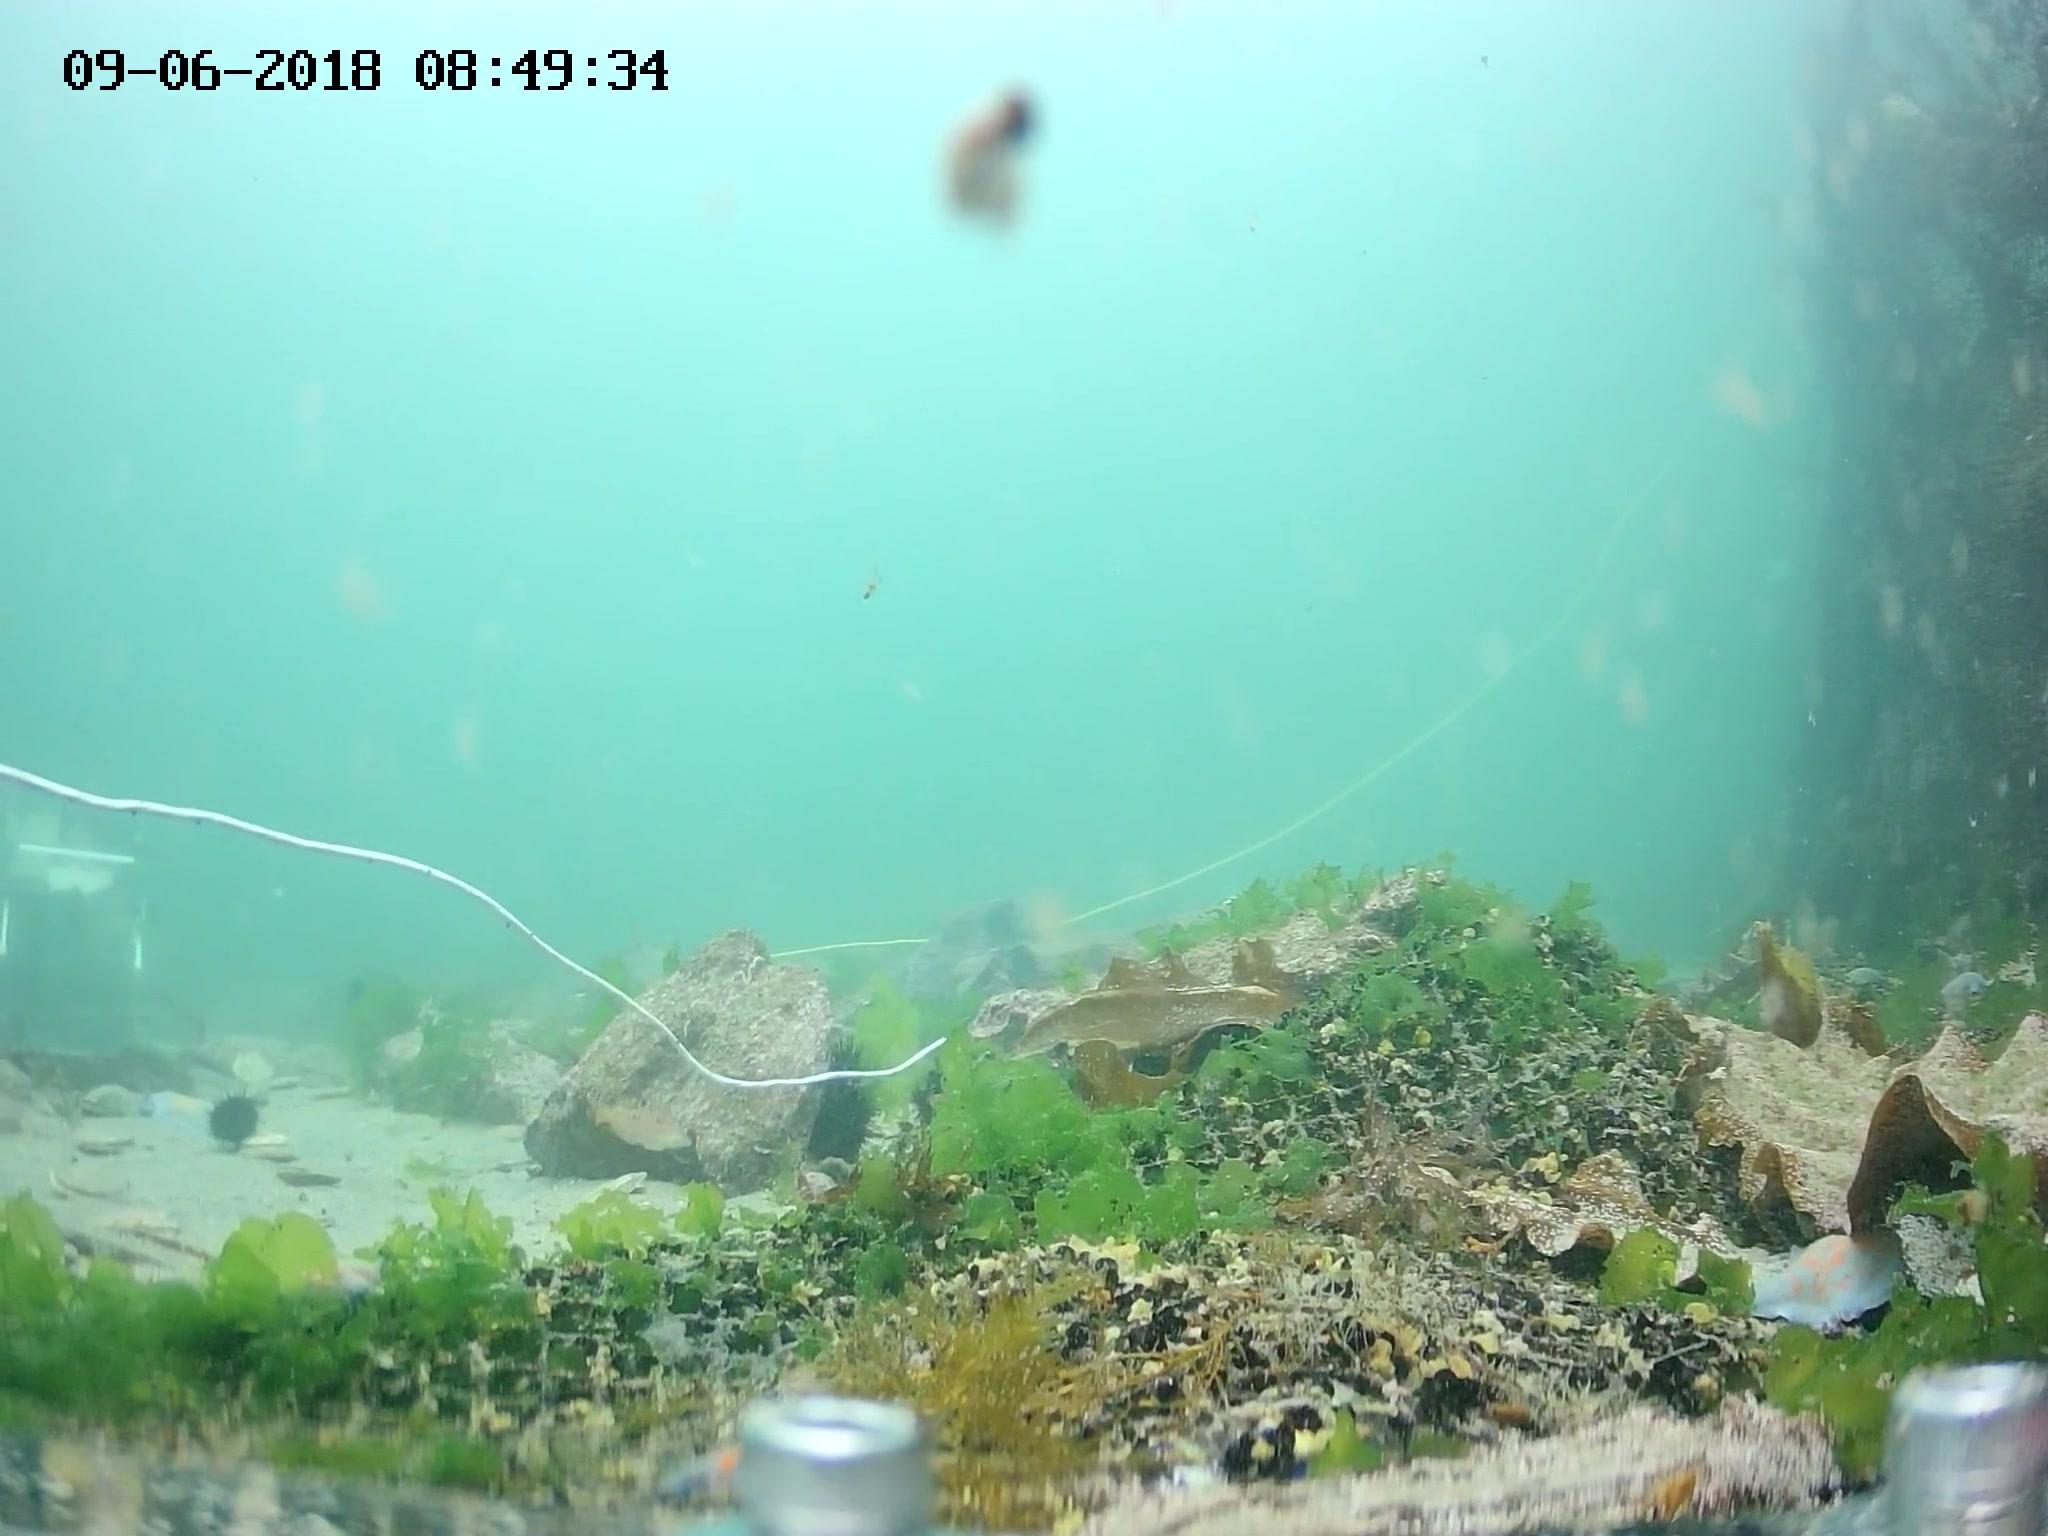echinus: (795, 1036, 887, 1163), (205, 1091, 269, 1149)
scallop: (577, 1175, 655, 1231), (53, 1157, 139, 1204), (73, 1115, 144, 1162), (276, 1163, 340, 1199), (242, 1133, 293, 1167), (237, 1052, 277, 1083)
starfish: (1753, 1233, 1921, 1334), (664, 1439, 810, 1512), (298, 1249, 395, 1307), (145, 1084, 221, 1136), (85, 1202, 181, 1242), (81, 1081, 156, 1120)
